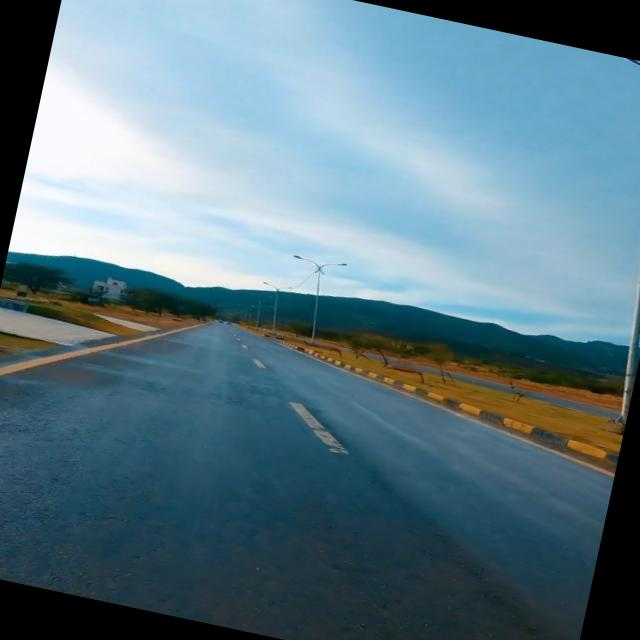asphalt: (0, 322, 614, 640)
cement: (0, 307, 114, 345), (94, 314, 158, 332)
grass: (425, 376, 622, 454), (30, 303, 136, 335), (358, 360, 416, 382), (0, 333, 53, 351)
